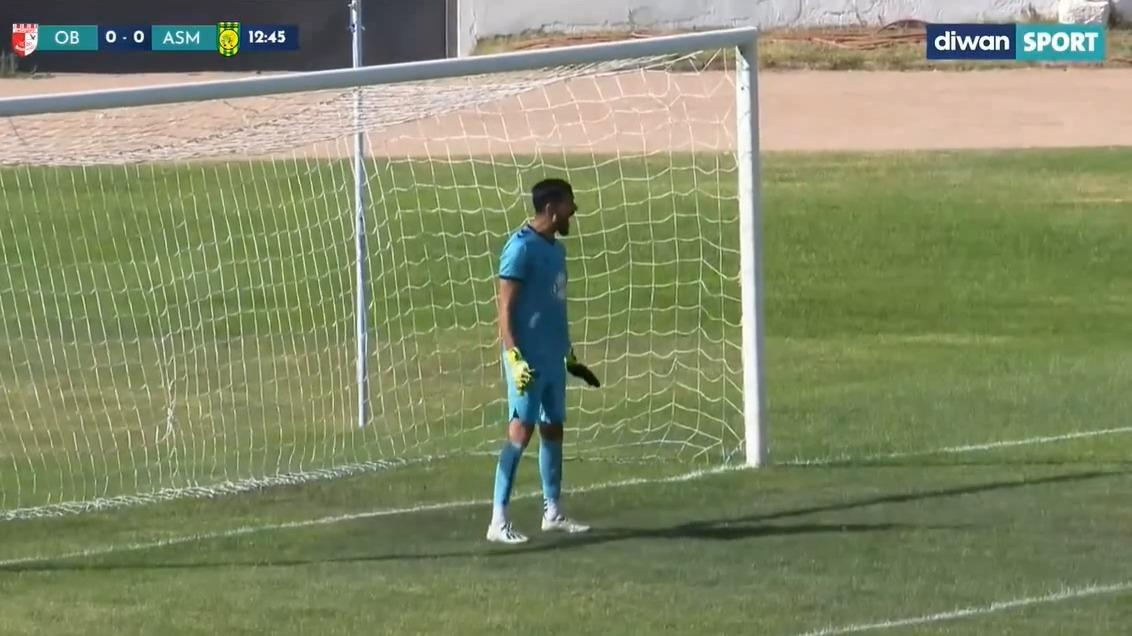goalkeeper: (465, 147, 648, 551)
